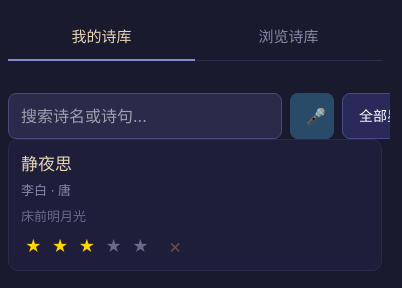
it: LibraryTab › browse includes saved poems and shows their rating as stars
Click the tab "浏览诗库" at (288, 38), box [195,16,382,60]
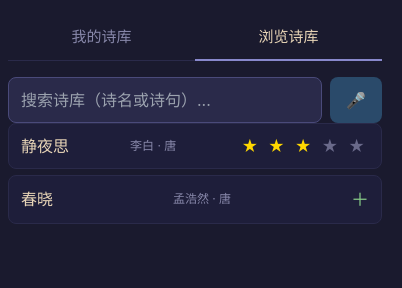
Check: the element with placeholder "搜索诗库（诗名或诗句）..." shows "静夜思", box [21,136,69,156]
Check: the number of elements with class "star" is 5, box [241,136,258,156]; [268,136,285,156]; [295,136,312,156]; [322,136,338,156]; [348,136,365,156]
Check: the number of elements with class "filled" is 3, box [241,136,258,156]; [268,136,285,156]; [295,136,312,156]
